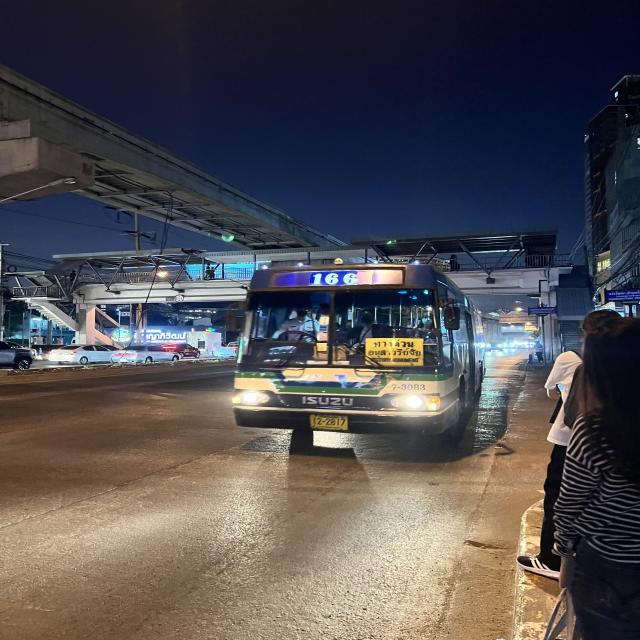BMTA-bus: (232, 254, 486, 463)
Bus Line Number: (302, 267, 368, 286)
Bus Side Number: (388, 381, 428, 392)
Destination Sign: (361, 338, 425, 368)
